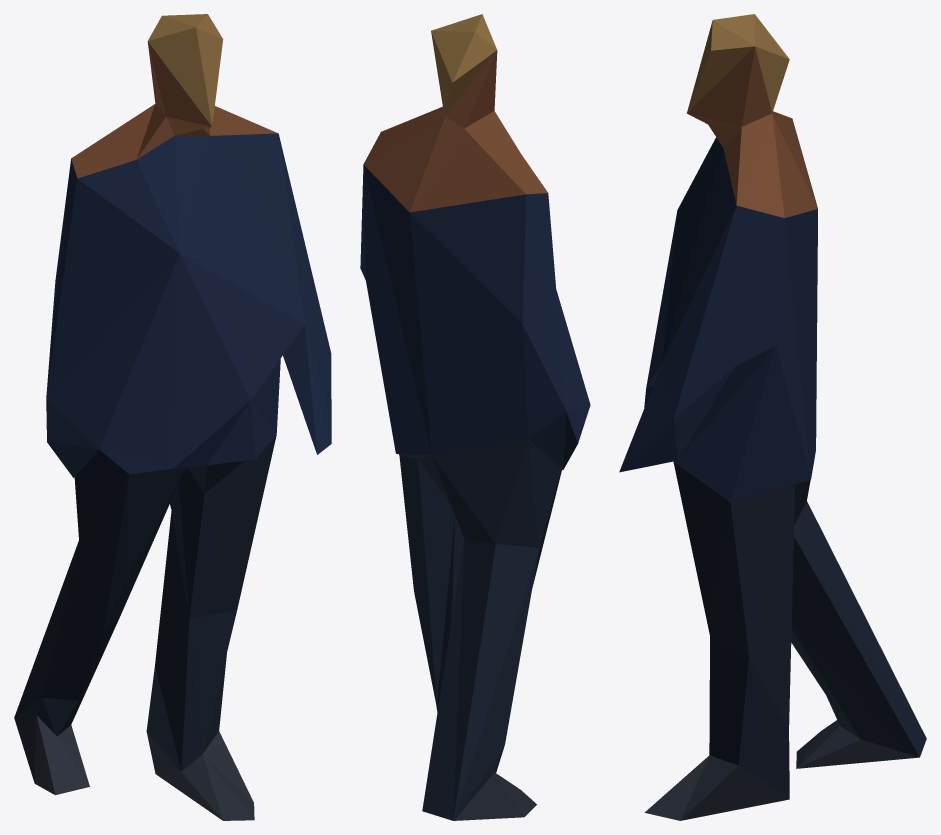
Rendered from walker-27.glb.
3 views of the same model, side by side, from view 1: azimuth 30°, elevation 25°; view 2: azimuth 150°, elevation 25°; view 3: azimuth 270°, elevation 25° (orthographic). The views are drawn at different scales.
Parts seen in each view (by area): view 1: Man02; view 2: Man02; view 3: Man02.
Boxes of the visible parts, x1,y1,x2,y2 form: Man02: (14,14,331,820); Man02: (360,14,590,820); Man02: (619,14,926,820).
Bounding box in the file's own units: 0.5066 × 1.55 × 0.5535.
